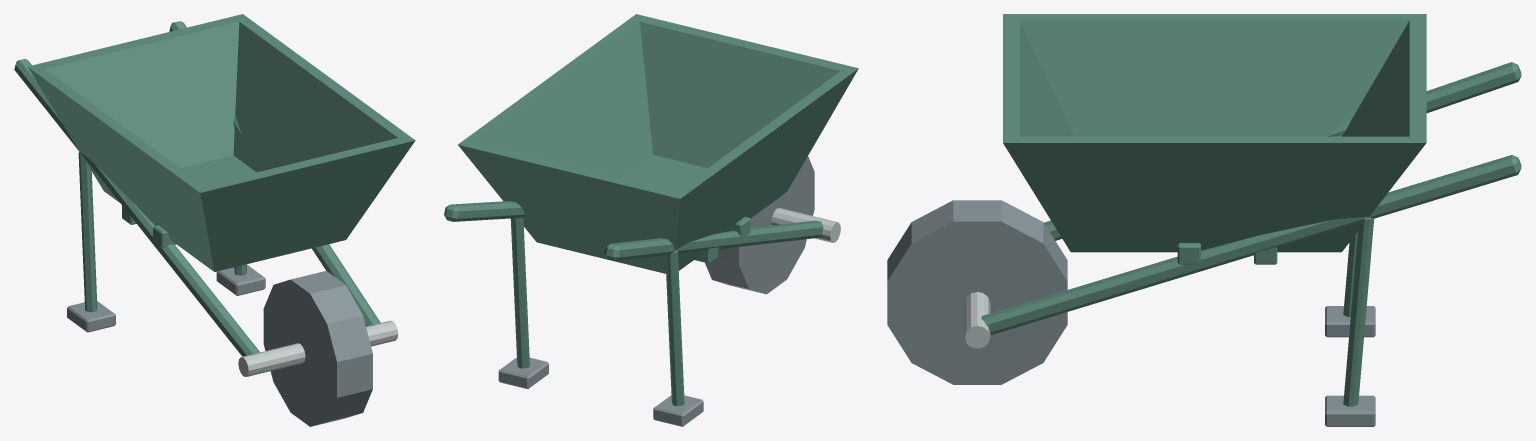
3 views of the same model, side by side, from view 1: azimuth 30°, elevation 25°; view 2: azimuth 150°, elevation 25°; view 3: azimuth 270°, elevation 25° (orthographic). The views are drawn at different scales.
Visible parts, largest first — view 1: construction-wheelbarrow-01; view 2: construction-wheelbarrow-01; view 3: construction-wheelbarrow-01.
Boxes of the visible parts, bbox=[...] form: construction-wheelbarrow-01: bbox=[14, 14, 415, 426]; construction-wheelbarrow-01: bbox=[444, 14, 858, 426]; construction-wheelbarrow-01: bbox=[887, 14, 1521, 426].
Size of the model in its own units: 0.72 by 0.77 by 1.5.
